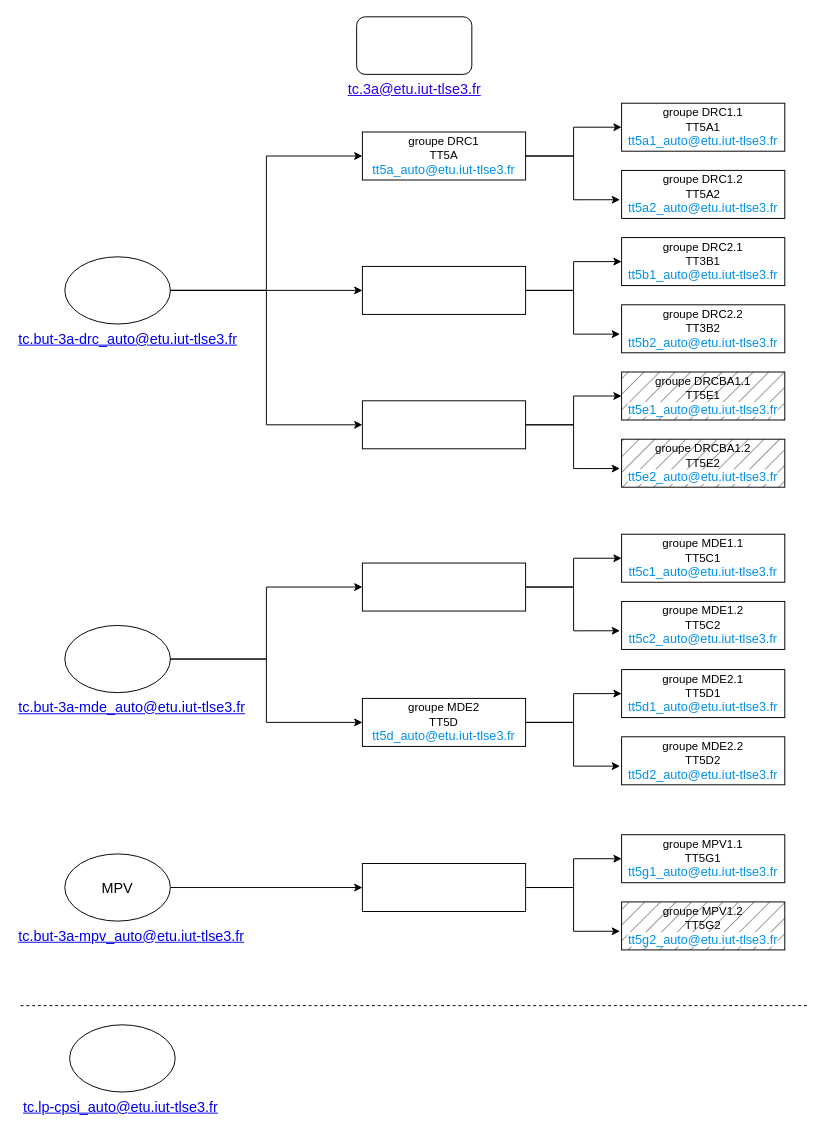
The diagram is 826 pixels wide and 1138 high, and some of its shapes have lost their labels. Each missing label, with the box of its shape:
BUT 3: (356, 16, 472, 74)
CPSI: (69, 1024, 175, 1092)
DRC: (64, 256, 170, 324)
groupe DRC2 TT5B tt5b_auto@etu.iut-tlse3.fr: (361, 265, 526, 314)
groupe DRCBA1 TT5E tt5e_auto@etu.iut-tlse3.fr: (361, 400, 526, 449)
groupe MDE1 TT5C tt5c_auto@etu.iut-tlse3.fr: (361, 562, 526, 611)
groupe MPV1 TT5G tt5g_auto@etu.iut-tlse3.fr: (361, 863, 526, 912)
MDE: (64, 624, 170, 693)
